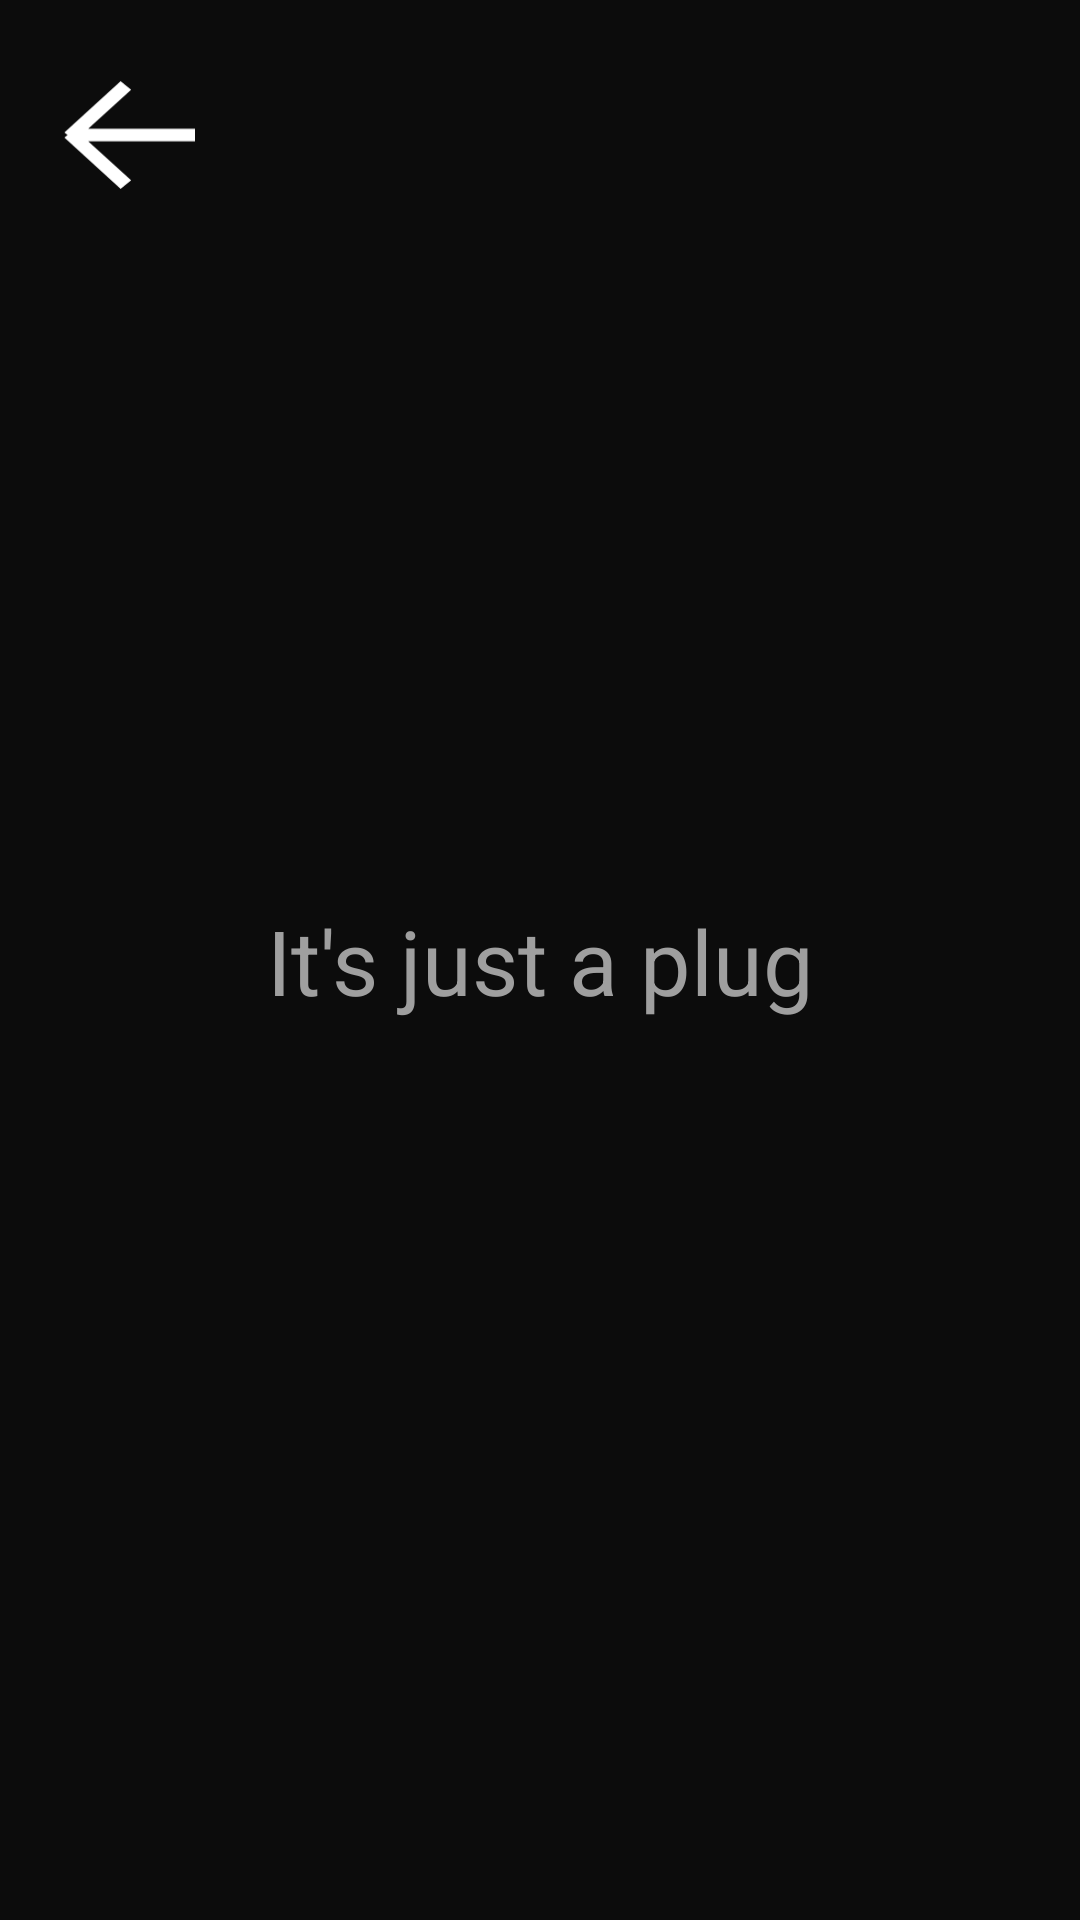

Where to tap for icons on this 1080w x 1920h app screen, as point (x, y):
back arrow: point (129, 135)
